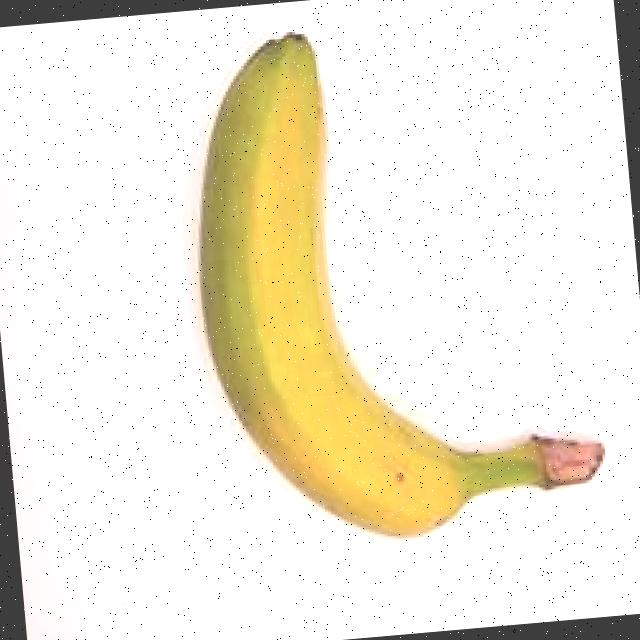Unripe: (123, 0, 612, 573)
